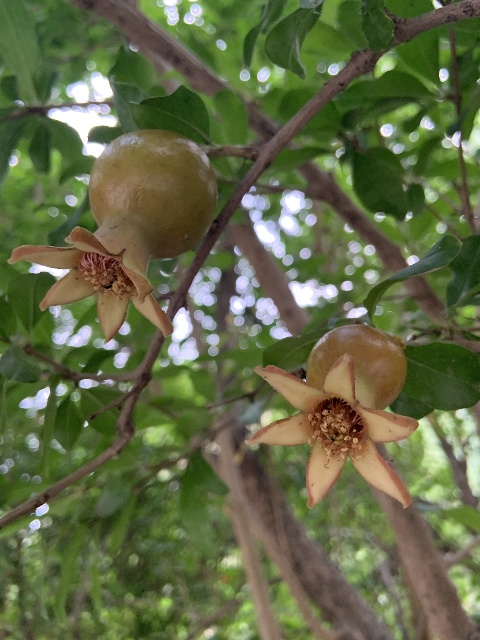early-fruit: (244, 322, 418, 510)
mid-growth: (9, 130, 218, 345)
